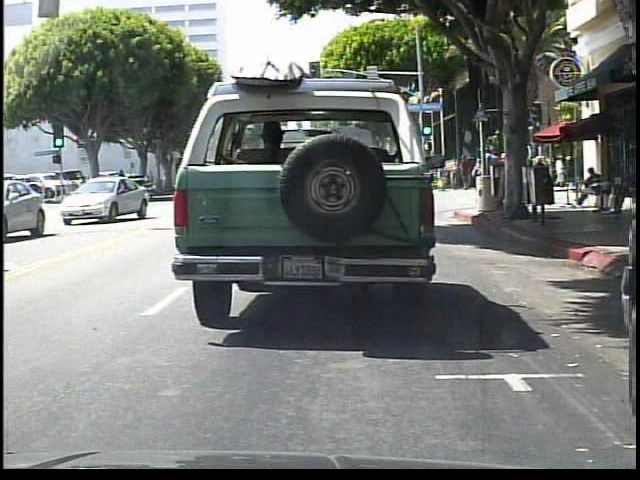person: (574, 166, 604, 211), (499, 149, 516, 214), (481, 141, 498, 205), (470, 155, 485, 206), (533, 159, 546, 202), (527, 163, 539, 202), (435, 160, 447, 193), (461, 155, 472, 190), (449, 157, 460, 191), (555, 156, 566, 188), (425, 169, 435, 194)
